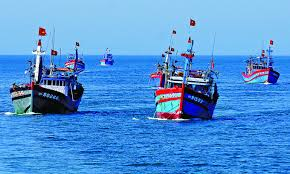tau_dansu: (14, 43, 85, 116), (152, 46, 221, 119), (240, 49, 280, 85), (61, 44, 83, 74), (94, 46, 118, 67)
